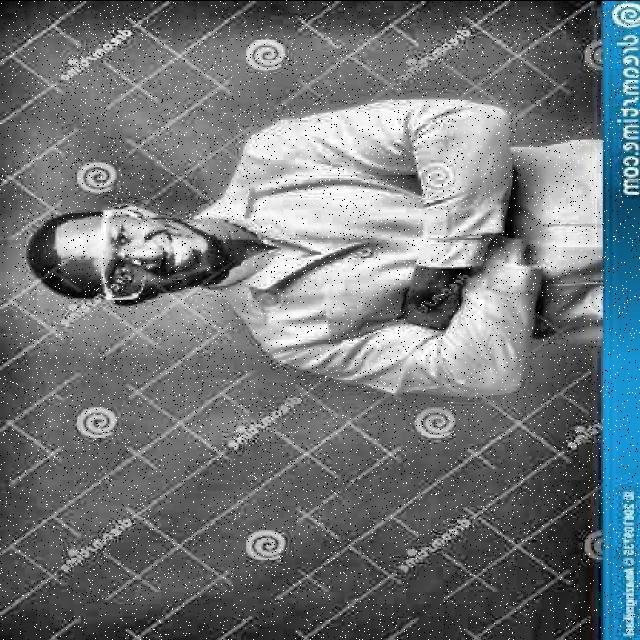Goggles: (91, 190, 157, 314)
